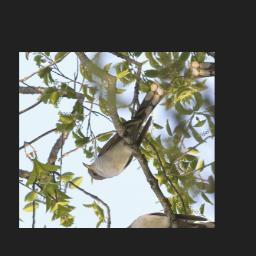Cuckoo: (65, 80, 189, 188)
